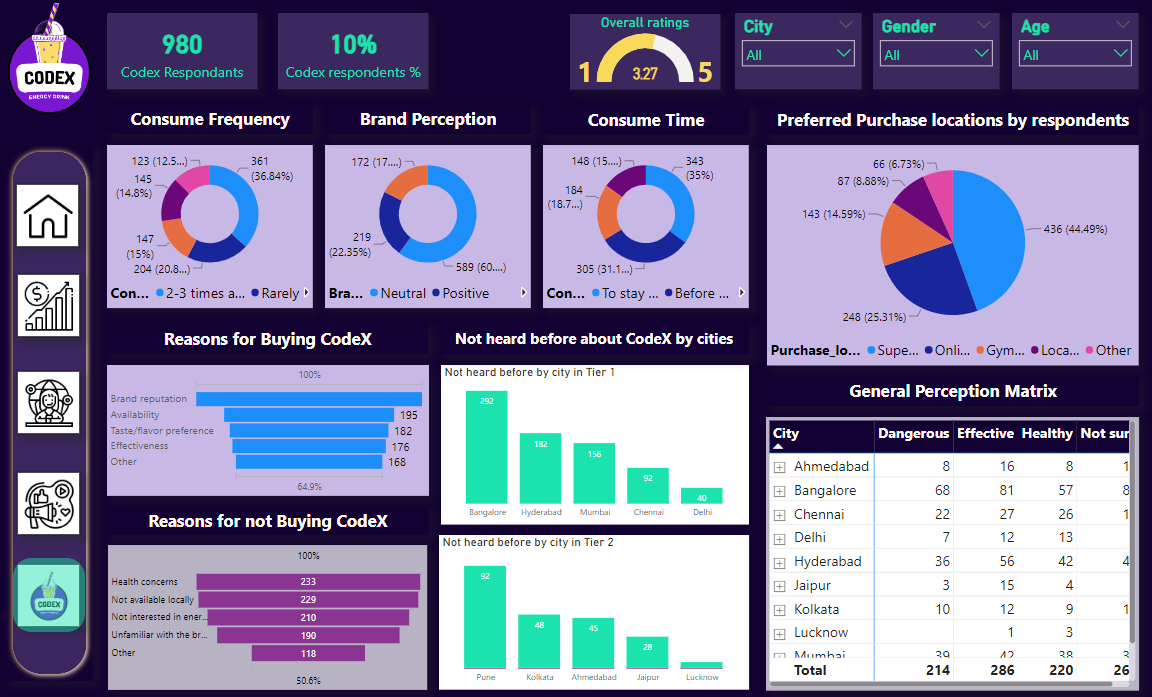

The page's visual inventory and layout, read from the dashboard file:
{"tool":"powerbi","page":{"name":"Codex Marketing Analysis","canvas":[1650,1000],"ordinal":4},"visuals":[{"type":"slicer","fields":{"Values":["codex dim_repondents.Gender"]},"box":[1251.9,20.4,181.5,109.3],"z":0},{"type":"slicer","fields":{"Values":["codex dim_repondents.Age"]},"box":[1450,20.4,181.5,109.3],"z":1000},{"type":"slicer","fields":{"Values":["codex dim_cities.City"]},"box":[1053.7,20.4,181.5,109.3],"z":2000},{"type":"pivotTable","fields":{"Rows":["codex dim_cities.City","codex dim_repondents.Age"],"Columns":["codex fact_survey_responses.General_perception"],"Values":["Report measures.Total respondents codex"]},"box":[1098.2,596.5,533.3,391.2],"z":3000},{"type":"funnel","fields":{"Category":["codex fact_survey_responses.Reasons_preventing_trying"],"Y":["Report measures.Total respondents codex"]},"box":[157.9,780.7,456.1,207],"z":4000},{"type":"card","fields":{"Values":["Report measures.Codex respondent"]},"box":[157.4,20.4,214.8,109.3],"z":5000},{"type":"card","fields":{"Values":["Report measures.Codex respondents %"]},"box":[401.9,20.4,214.8,109.3],"z":6000},{"type":"pieChart","fields":{"Category":["codex fact_survey_responses.Purchase_location"],"Y":["Report measures.Total respondents codex"]},"box":[1100,209.3,531.5,314.8],"z":7000},{"type":"textbox","box":[157.4,148.1,294.4,44.4],"z":8000},{"type":"textbox","box":[1100,150,531.5,44.4],"z":9000},{"type":"textbox","box":[157.4,463,459.3,44.4],"z":10000},{"type":"funnel","fields":{"Category":["codex fact_survey_responses.Reasons_for_choosing_brands"],"Y":["Report measures.Total respondents codex"]},"box":[157.4,523.4,459.6,187.2],"z":11000},{"type":"donutChart","fields":{"Category":["codex fact_survey_responses.Consume_frequency"],"Y":["Report measures.Total respondents codex"]},"box":[157.4,209.3,294.4,233.3],"z":12000},{"type":"donutChart","fields":{"Category":["codex fact_survey_responses.Brand_perception"],"Y":["Report measures.Total respondents codex"]},"box":[468.5,209.3,294.4,233.3],"z":13000},{"type":"donutChart","fields":{"Category":["codex fact_survey_responses.Consume_time"],"Y":["Report measures.Total respondents codex"]},"box":[779.6,209.3,294.4,233.3],"z":14000},{"type":"textbox","box":[468.5,148.1,294.4,44.4],"z":15000},{"type":"textbox","box":[779.6,150,294.4,44.4],"z":16000},{"type":"textbox","box":[1100,536.8,531.6,43.9],"z":17000},{"type":"textbox","box":[157.4,723.4,459.6,42.6],"z":18000},{"type":"gauge","fields":{"Y":["Avg(codex fact_survey_responses.Taste_experience)"]},"box":[818.8,20.8,214.6,108.3],"z":19000},{"type":"columnChart","title":"Not heard before by city in Tier 1","fields":{"Category":["codex dim_cities.City"],"Y":["CountNonNull(codex dim_cities.Tier)","CountNonNull(codex fact_survey_responses.Heard_before)"]},"box":[634,523.4,440.4,227.7],"z":20000},{"type":"columnChart","title":"Not heard before by city in Tier 2","fields":{"Category":["codex dim_cities.City"],"Y":["CountNonNull(codex dim_cities.Tier)","CountNonNull(codex fact_survey_responses.Heard_before)"]},"box":[631.9,766,442.6,221.3],"z":21000},{"type":"textbox","box":[631.9,463.8,442.6,44.7],"z":22000},{"type":"shape","box":[13,209.3,124.1,764.8],"z":23000},{"type":"image","box":[27.1,264.3,90,90],"z":24000},{"type":"image","box":[28.6,675.7,90,90],"z":25000},{"type":"image","box":[28.6,531.4,90,90],"z":26000},{"type":"image","box":[28.6,392.9,90,90],"z":27000},{"type":"image","box":[28.6,807.1,90,90],"z":28000},{"type":"shape","box":[22.9,798.6,102.9,105.7],"z":29000},{"type":"image","box":[1.4,0,145.7,171.4],"z":30000}]}

Visuals, with their boxes in screenshot pixels (x1, y1, x2, y2), scaled from the page's 1650x1000 canvas onto the 1152x697 screenshot:
slicer - codex dim_repondents.Gender: [x1=874, y1=14, x2=1001, y2=90]
slicer - codex dim_repondents.Age: [x1=1012, y1=14, x2=1139, y2=90]
slicer - codex dim_cities.City: [x1=736, y1=14, x2=862, y2=90]
pivotTable - codex dim_cities.City x codex dim_repondents.Age: [x1=767, y1=416, x2=1139, y2=688]
funnel - codex fact_survey_responses.Reasons_preventing_trying x Report measures.Total respondents codex: [x1=110, y1=544, x2=429, y2=688]
card - Report measures.Codex respondent: [x1=110, y1=14, x2=260, y2=90]
card - Report measures.Codex respondents %: [x1=281, y1=14, x2=431, y2=90]
pieChart - codex fact_survey_responses.Purchase_location x Report measures.Total respondents codex: [x1=768, y1=146, x2=1139, y2=365]
textbox: [x1=110, y1=103, x2=315, y2=134]
textbox: [x1=768, y1=105, x2=1139, y2=135]
textbox: [x1=110, y1=323, x2=431, y2=354]
funnel - codex fact_survey_responses.Reasons_for_choosing_brands x Report measures.Total respondents codex: [x1=110, y1=365, x2=431, y2=495]
donutChart - codex fact_survey_responses.Consume_frequency x Report measures.Total respondents codex: [x1=110, y1=146, x2=315, y2=308]
donutChart - codex fact_survey_responses.Brand_perception x Report measures.Total respondents codex: [x1=327, y1=146, x2=533, y2=308]
donutChart - codex fact_survey_responses.Consume_time x Report measures.Total respondents codex: [x1=544, y1=146, x2=750, y2=308]
textbox: [x1=327, y1=103, x2=533, y2=134]
textbox: [x1=544, y1=105, x2=750, y2=135]
textbox: [x1=768, y1=374, x2=1139, y2=405]
textbox: [x1=110, y1=504, x2=431, y2=534]
gauge - Avg(codex fact_survey_responses.Taste_experience): [x1=572, y1=14, x2=722, y2=90]
"Not heard before by city in Tier 1" columnChart: [x1=443, y1=365, x2=750, y2=524]
"Not heard before by city in Tier 2" columnChart: [x1=441, y1=534, x2=750, y2=688]
textbox: [x1=441, y1=323, x2=750, y2=354]
shape: [x1=9, y1=146, x2=96, y2=679]
image: [x1=19, y1=184, x2=82, y2=247]
image: [x1=20, y1=471, x2=83, y2=534]
image: [x1=20, y1=370, x2=83, y2=433]
image: [x1=20, y1=274, x2=83, y2=337]
image: [x1=20, y1=563, x2=83, y2=625]
shape: [x1=16, y1=557, x2=88, y2=630]
image: [x1=1, y1=0, x2=103, y2=119]
